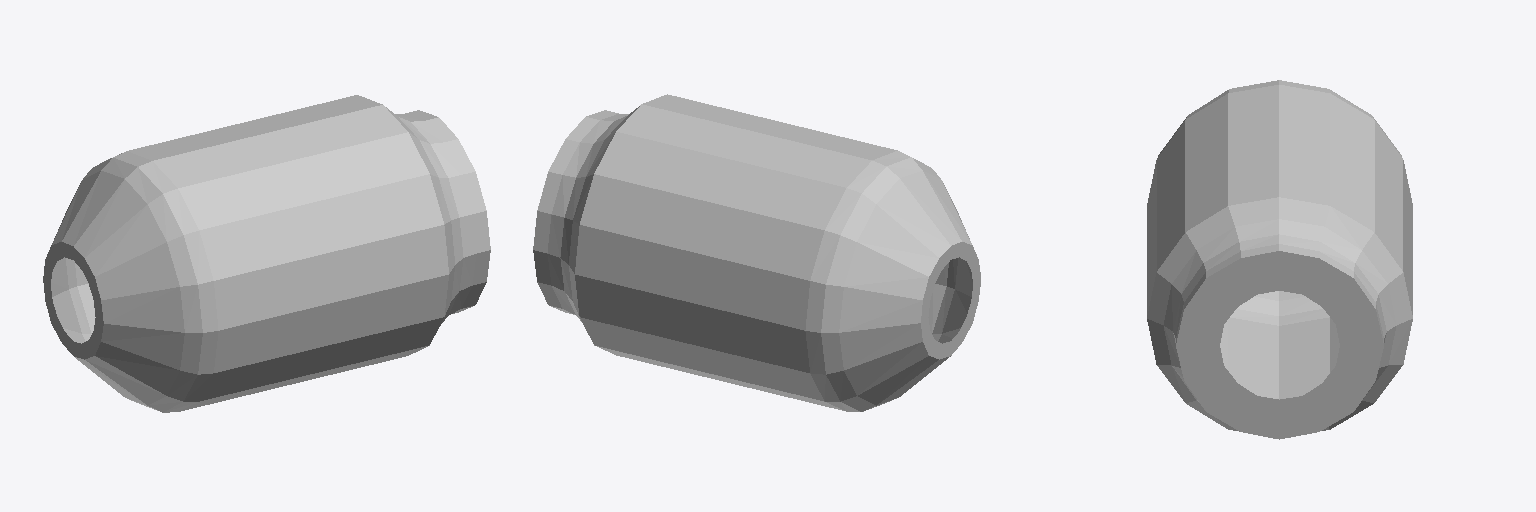
Rendered from fuel_pipe_filter.obj.
3 views of the same model, side by side, from view 1: azimuth 30°, elevation 25°; view 2: azimuth 150°, elevation 25°; view 3: azimuth 270°, elevation 25° (orthographic).
Visible parts, largest first — view 1: fuel_pipe_filter; view 2: fuel_pipe_filter; view 3: fuel_pipe_filter.
Boxes of the visible parts, box(x1,y1,x2,y2) form: fuel_pipe_filter: box(43, 95, 490, 412); fuel_pipe_filter: box(533, 94, 980, 411); fuel_pipe_filter: box(1147, 80, 1412, 439).
Bounding box in the file's own units: 0.0003 × 0.0002 × 0.0002.